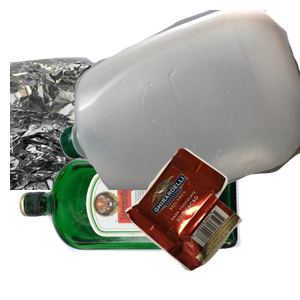glass: (14, 150, 247, 300)
metal: (10, 47, 250, 227)
plastic: (60, 10, 300, 190)
trash: (123, 145, 300, 300)
